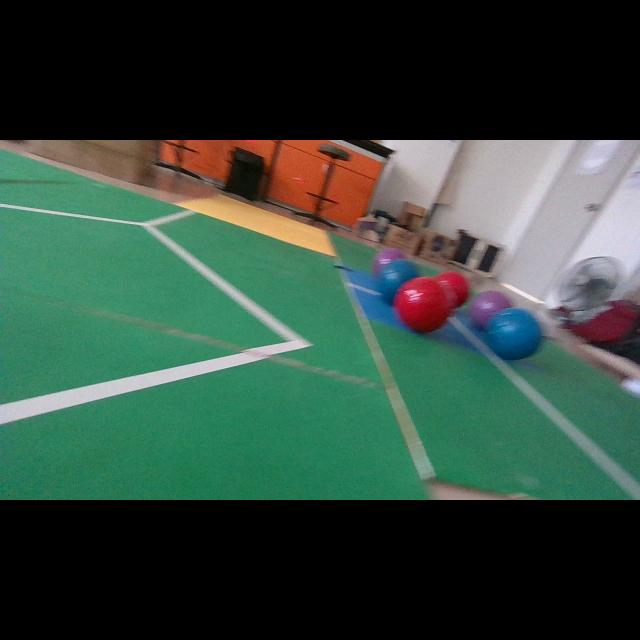B: (486, 308, 541, 359), (379, 259, 419, 304)
P: (470, 291, 510, 329), (372, 248, 405, 276)
R: (392, 278, 451, 332), (434, 271, 469, 307)
